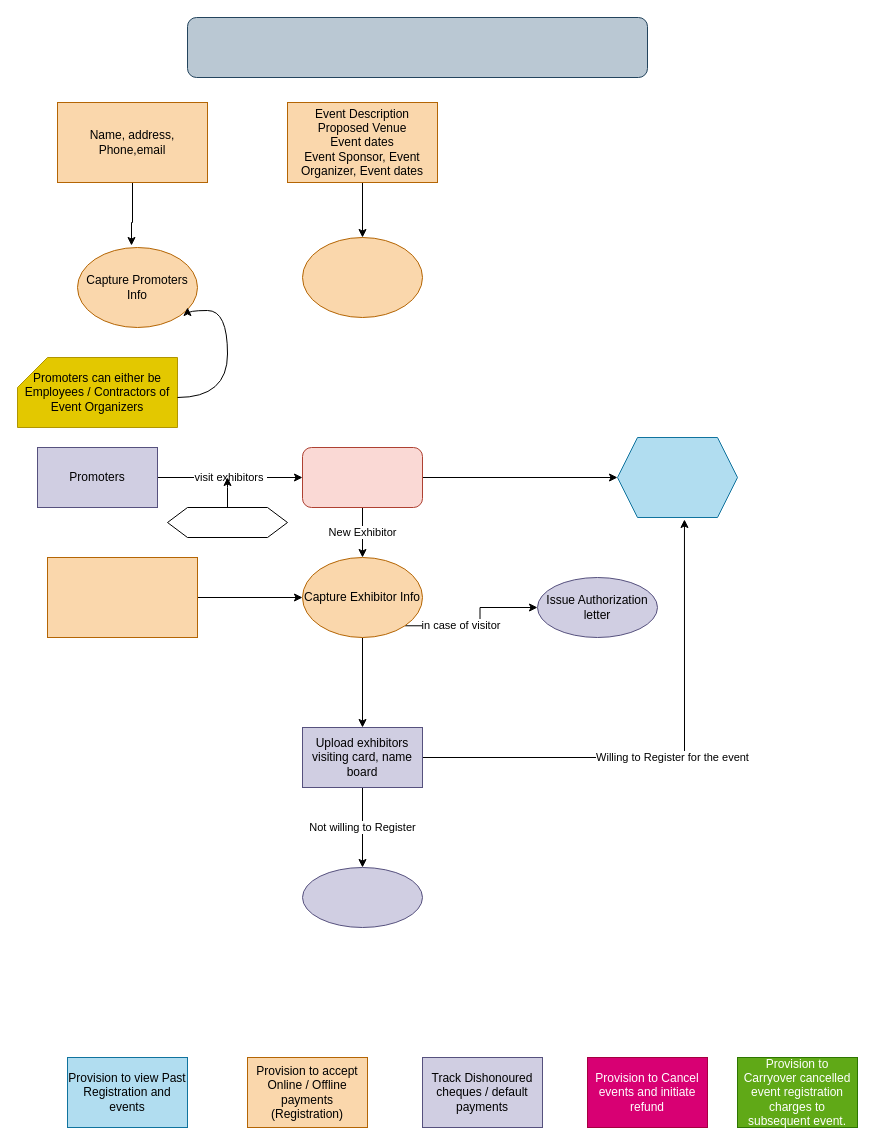
Image size: 875x1146. Some labels were removed from this diagram. Here are the shapes that lost their labels. From the top down, the box of each, then its label:
(186, 16, 648, 78): Jewellery Exhibition
(302, 236, 422, 318): Capture Event Info
(302, 446, 422, 508): Proposed Exhibitors
(616, 436, 738, 518): Event Registration Accept Registration charges
(166, 506, 288, 538): Location tracking
(46, 556, 198, 638): GST Registration Aadhar number Pan card
(302, 866, 422, 928): End
